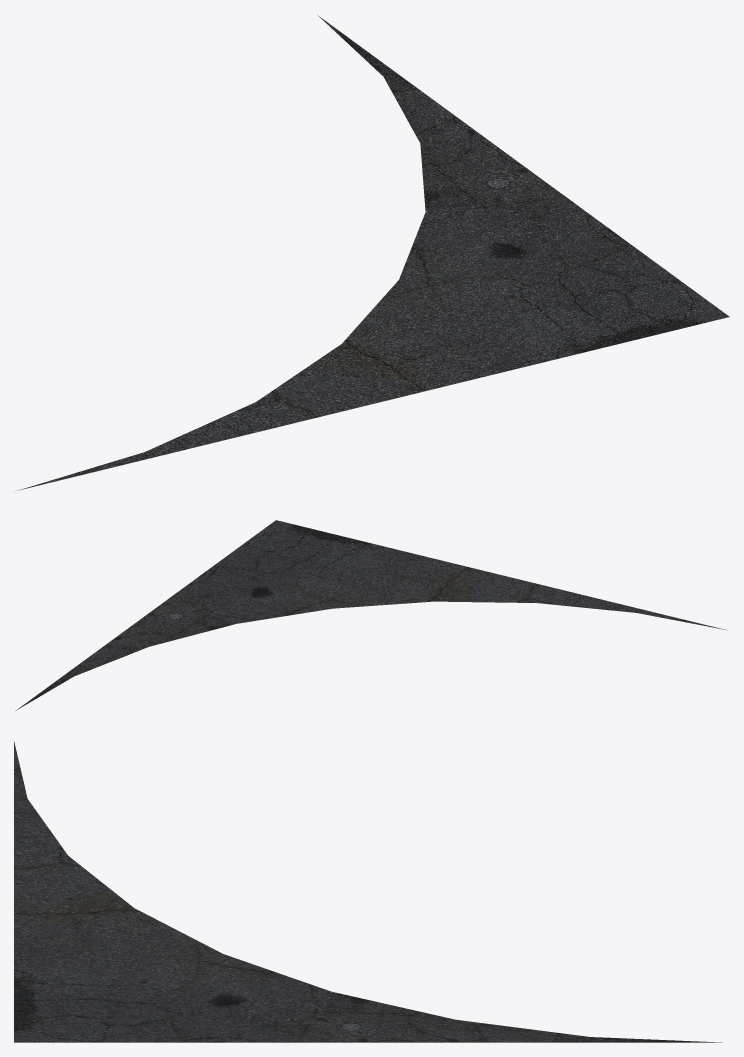
File: Road_set_v1_s_bend_1f.002.glb
3 renders of one model, top to bottom at view 1: azimuth 30°, elevation 25°; view 2: azimuth 150°, elevation 25°; view 3: azimuth 270°, elevation 25°, orthographic. The views are drawn at different scales.
Visible parts, largest first — view 1: Road_set_v1_s_bend_1f.002; view 2: Road_set_v1_s_bend_1f.002; view 3: Road_set_v1_s_bend_1f.002.
Boxes of the visible parts, x1,y1,x2,y2 form: Road_set_v1_s_bend_1f.002: (17, 15, 729, 490); Road_set_v1_s_bend_1f.002: (15, 520, 726, 710); Road_set_v1_s_bend_1f.002: (14, 741, 722, 1042).
Size of the model in its own units: 10 by 0 by 10.
1 material, 1 textured.
